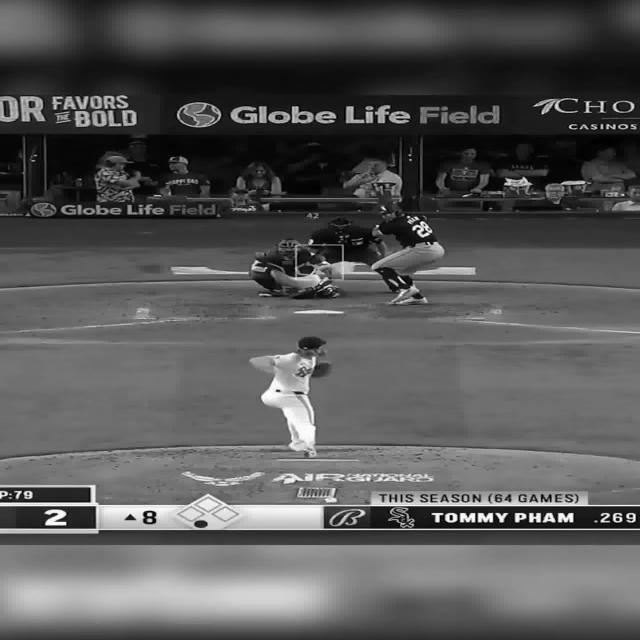baseball_glove: (286, 262, 312, 278), (310, 362, 330, 378)
shoe: (388, 288, 420, 304), (388, 295, 429, 305), (316, 284, 344, 298), (290, 287, 316, 298), (257, 288, 285, 296), (287, 442, 305, 452), (302, 448, 316, 458)
